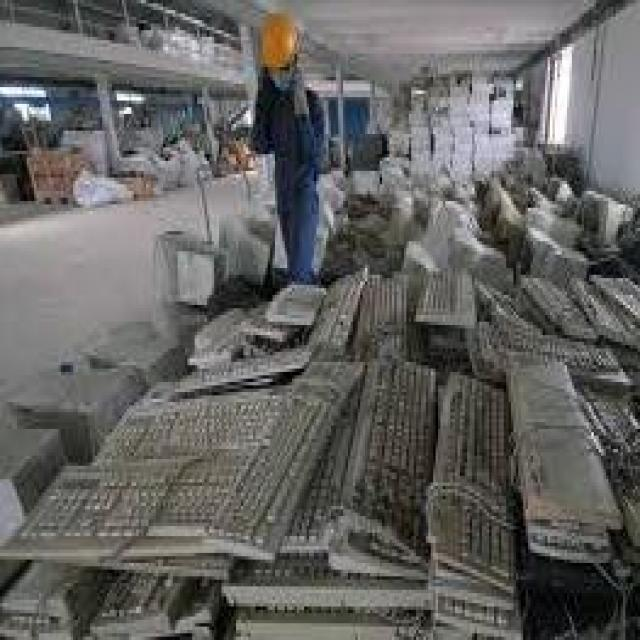Safety-Helmet: (244, 0, 312, 84)
